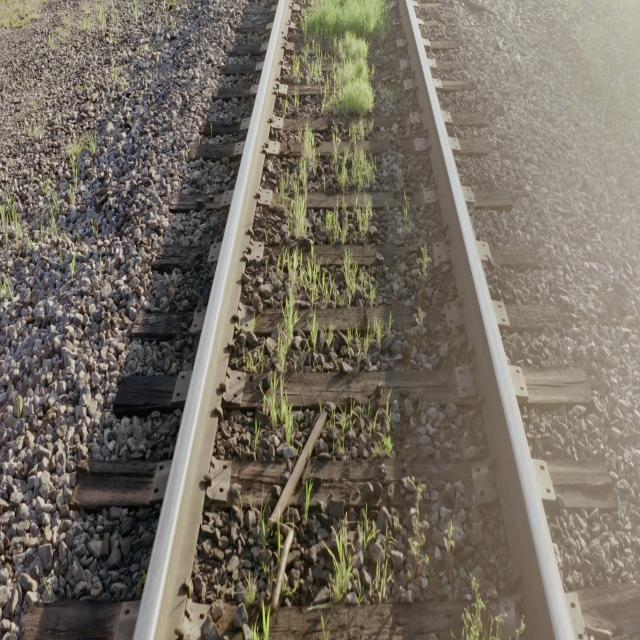Plant: (262, 0, 391, 442), (329, 513, 402, 604), (252, 533, 290, 638), (340, 318, 392, 371), (462, 582, 501, 638), (409, 498, 429, 591), (370, 402, 392, 458)
